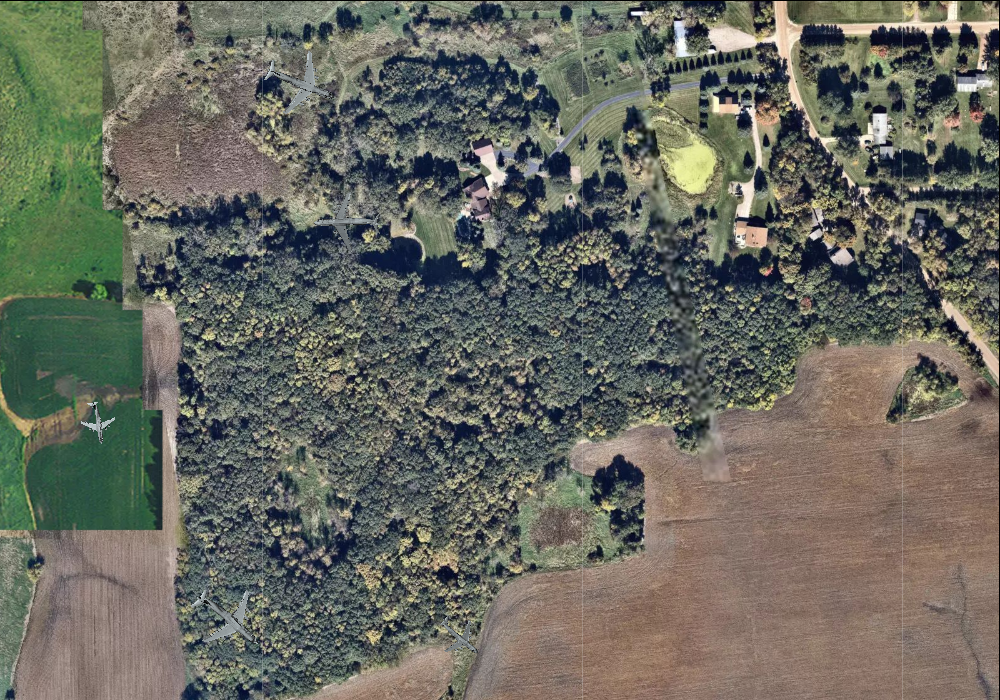plane: (173, 567, 280, 673), (253, 37, 347, 128), (312, 189, 381, 256), (426, 603, 493, 670), (73, 398, 119, 446)
